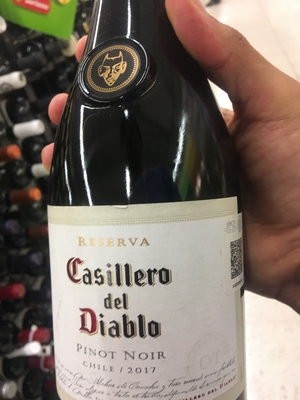casillero del diablo pinot noir: (42, 14, 261, 400)
